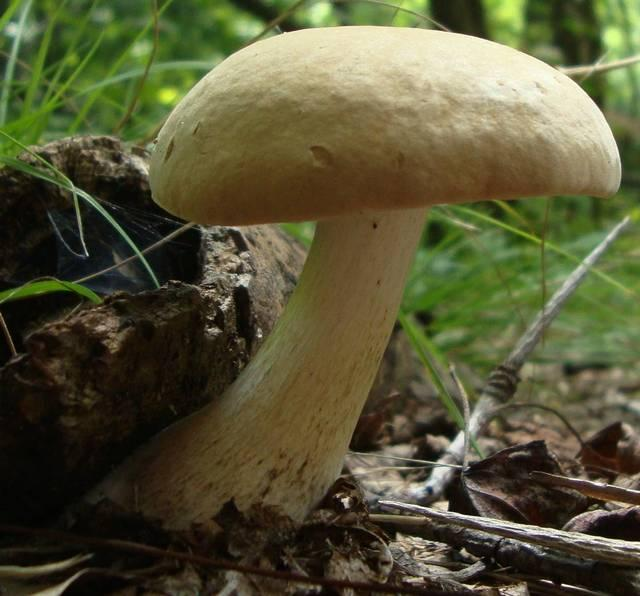edible_mushroom: (77, 23, 623, 535)
